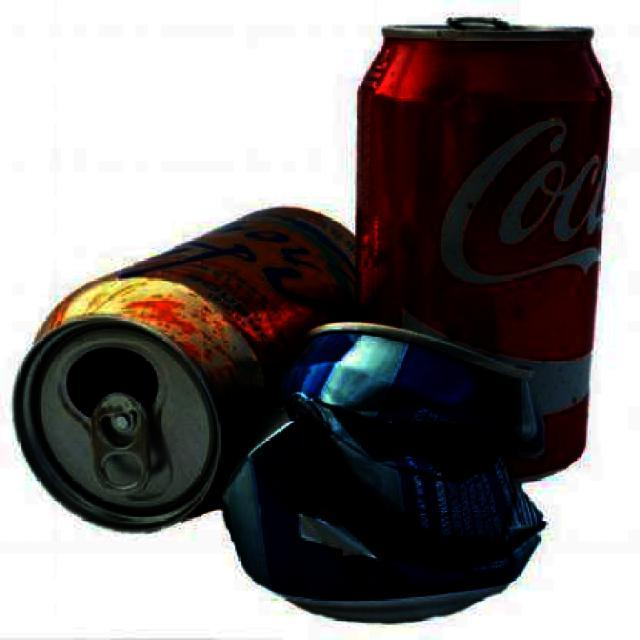0: (0, 98, 380, 566)
can: (358, 16, 618, 501), (216, 312, 581, 626)
